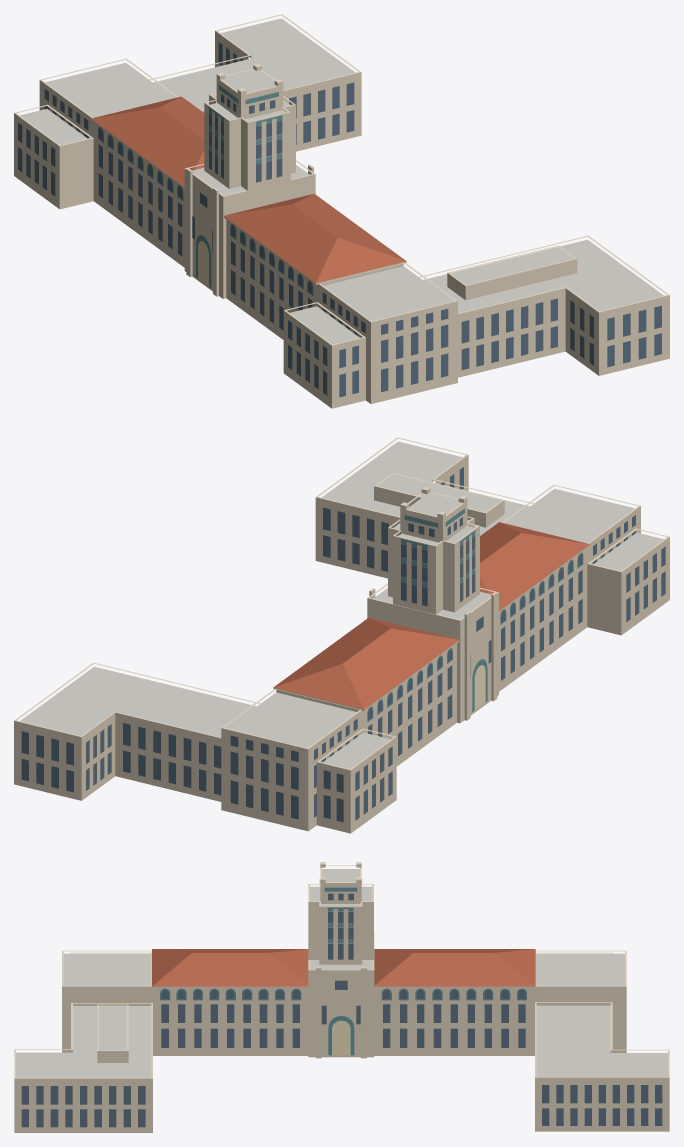
Rendered from sd-county-administration-center.glb.
3 views of the same model, one above another, from view 1: azimuth 30°, elevation 25°; view 2: azimuth 150°, elevation 25°; view 3: azimuth 270°, elevation 25° (orthographic). The views are drawn at different scales.
Parts seen in each view (by area): view 1: San Diego County Administration Center; view 2: San Diego County Administration Center; view 3: San Diego County Administration Center.
Boxes of the visible parts, left/top/right/bottom form: San Diego County Administration Center: left=14, top=14, right=669, bottom=408; San Diego County Administration Center: left=14, top=437, right=669, bottom=833; San Diego County Administration Center: left=14, top=862, right=669, bottom=1132.
Bounding box in the file's own units: 76.5 × 47 × 167.
